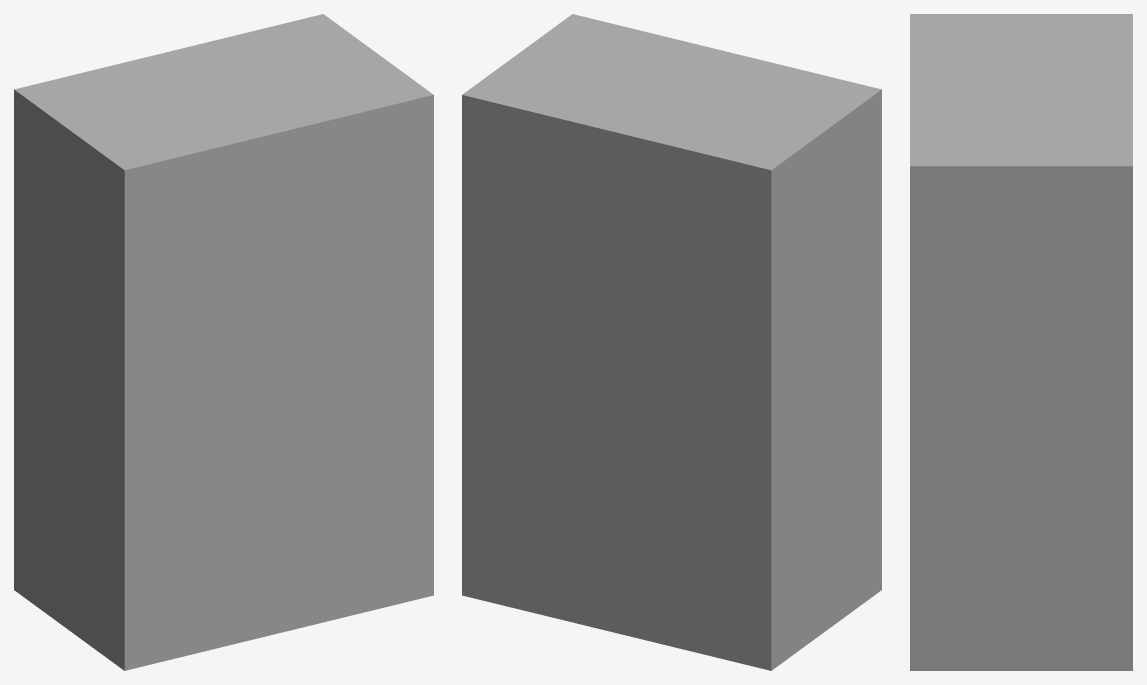
The model's file is Toilet1_C1_06.fbx.
3 views of the same model, side by side, from view 1: azimuth 30°, elevation 25°; view 2: azimuth 150°, elevation 25°; view 3: azimuth 270°, elevation 25° (orthographic).
Parts seen in each view (by area): view 1: Toilet1_C1_06; view 2: Toilet1_C1_06; view 3: Toilet1_C1_06.
Part boxes in pixels (x1,y1,x2,y2): Toilet1_C1_06: [14, 14, 433, 670]; Toilet1_C1_06: [462, 14, 881, 670]; Toilet1_C1_06: [910, 14, 1132, 670].
Size of the model in its own units: 3.23 by 5 by 2.
